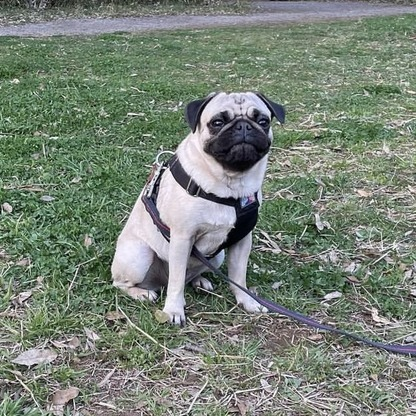Pug: (104, 84, 287, 330)
